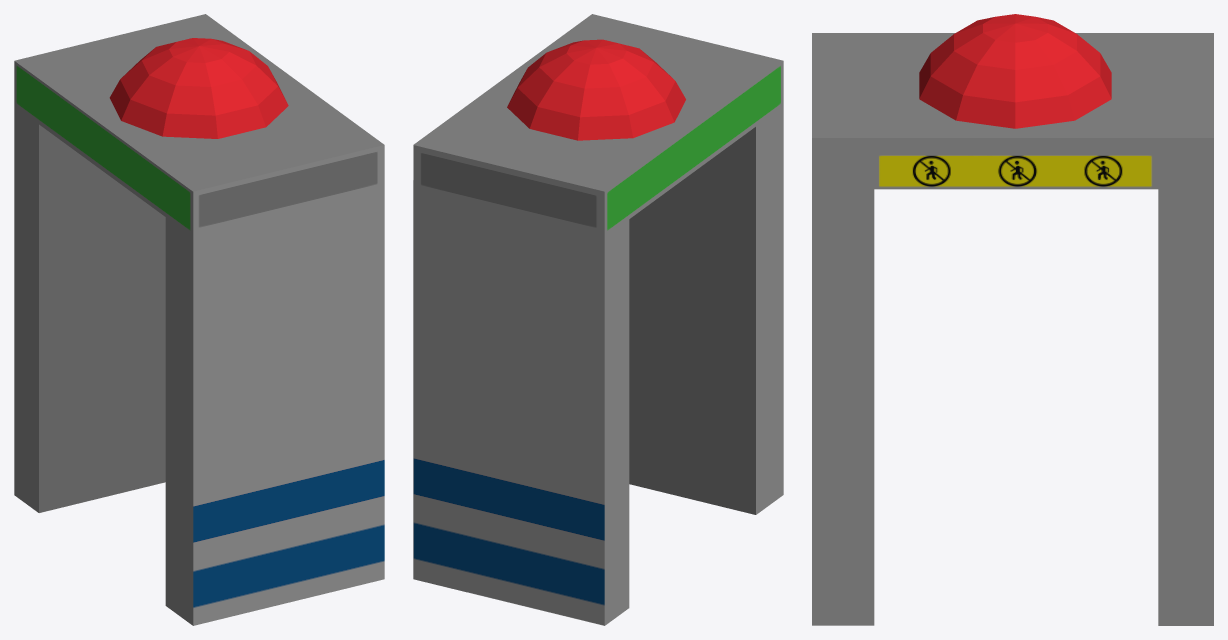
The model's file is SM_SecurityScanner_HUB.fbx.
The picture shows the model from 3 angles, left to right: view 1: azimuth 30°, elevation 25°; view 2: azimuth 150°, elevation 25°; view 3: azimuth 270°, elevation 25°; orthographic projection. The views are drawn at different scales.
Parts seen in each view (by area): view 1: pCube17, pSphere1; view 2: pCube17, pSphere1; view 3: pCube17, pSphere1.
Part boxes in pixels (x1,y1,x2,y2): pCube17: (14,14,384,625); pSphere1: (109,38,288,138); pCube17: (413,14,783,625); pSphere1: (507,39,685,140); pCube17: (812,33,1213,625); pSphere1: (919,14,1111,128).
Bounding box in the file's own units: 8.17 × 19.98 × 13.22.
